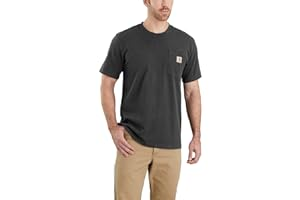design: (174, 54, 184, 65)
